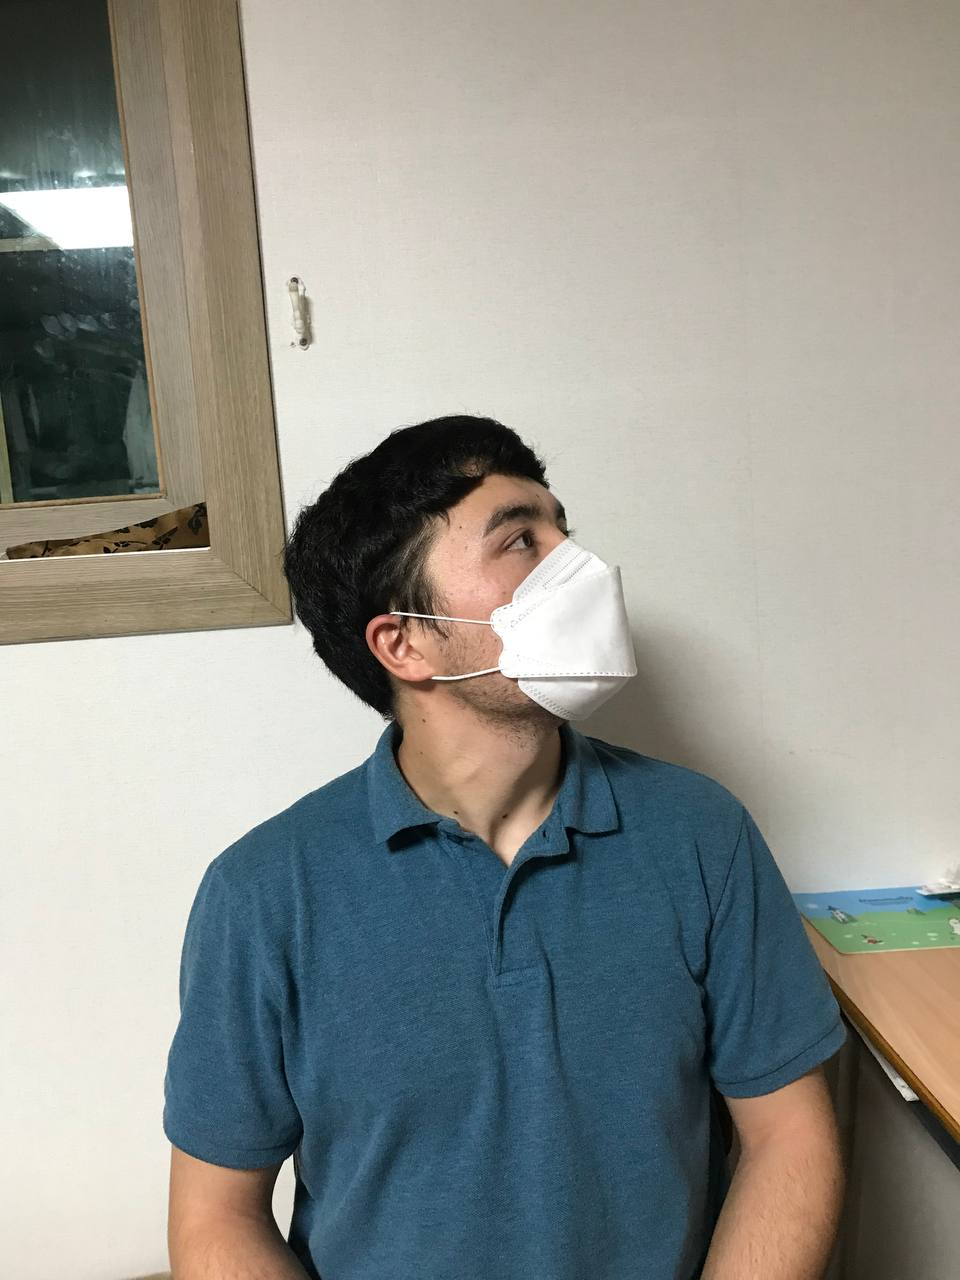Mask: (291, 540, 655, 727)
